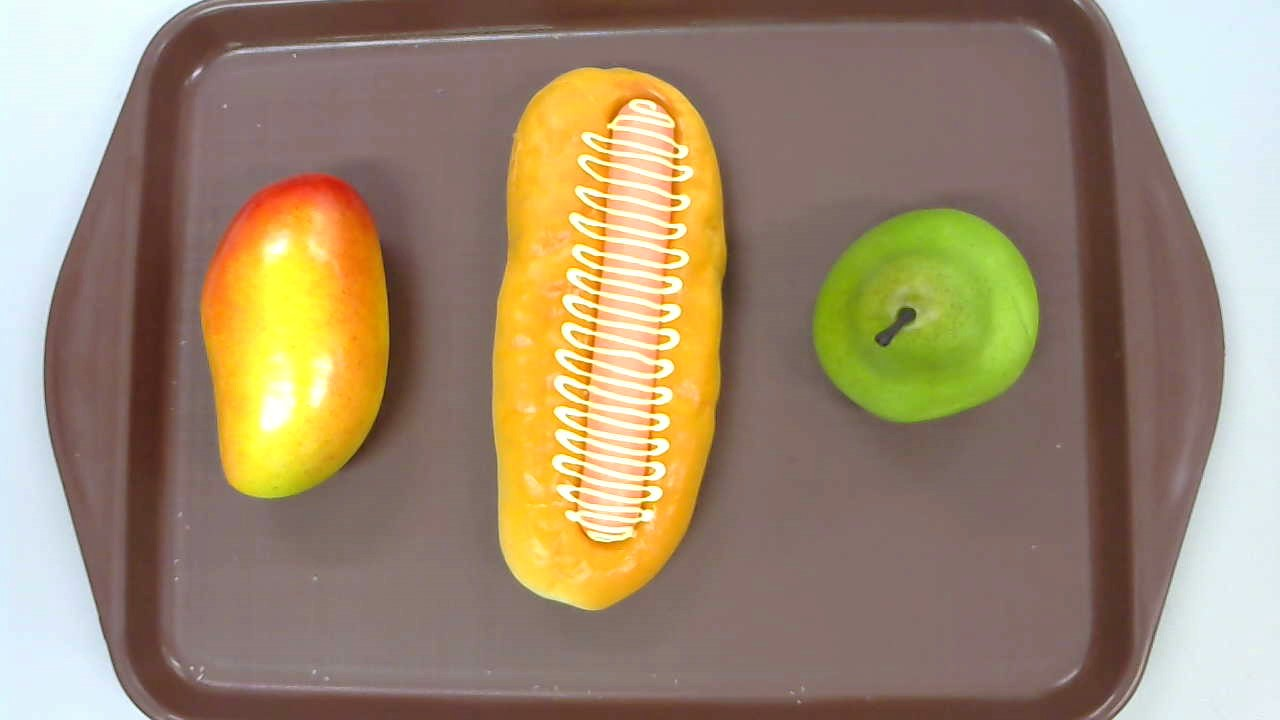green pear: (811, 206, 1040, 422)
hot dog: (489, 66, 728, 612)
red mango: (199, 174, 389, 498)
